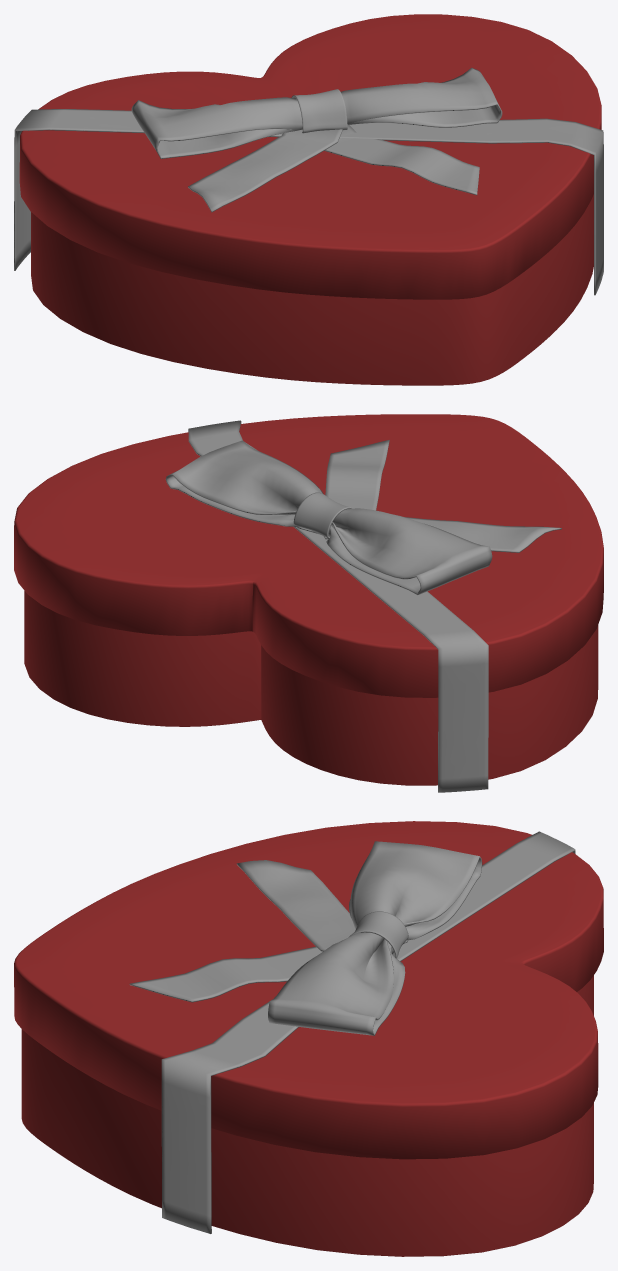
The model's file is ChocolateBox.fbx.
The picture shows the model from 3 angles, top to bottom: view 1: azimuth 30°, elevation 25°; view 2: azimuth 150°, elevation 25°; view 3: azimuth 270°, elevation 25°; orthographic projection. The views are drawn at different scales.
Parts seen in each view (by area): view 1: BASE HEART.013, Circle.035, Plane.007; view 2: BASE HEART.013, Circle.035, Plane.007; view 3: BASE HEART.013, Circle.035, Plane.007.
Boxes of the visible parts, x1,y1,x2,y2 form: BASE HEART.013: (19,14,601,299); Circle.035: (31,194,593,385); Plane.007: (14,67,603,295); BASE HEART.013: (14,414,603,697); Circle.035: (24,591,598,785); Plane.007: (165,420,561,792); BASE HEART.013: (14,821,603,1159); Circle.035: (21,975,593,1256); Plane.007: (129,831,575,1233).
Size of the model in its own units: 221 by 194 by 72.82.
